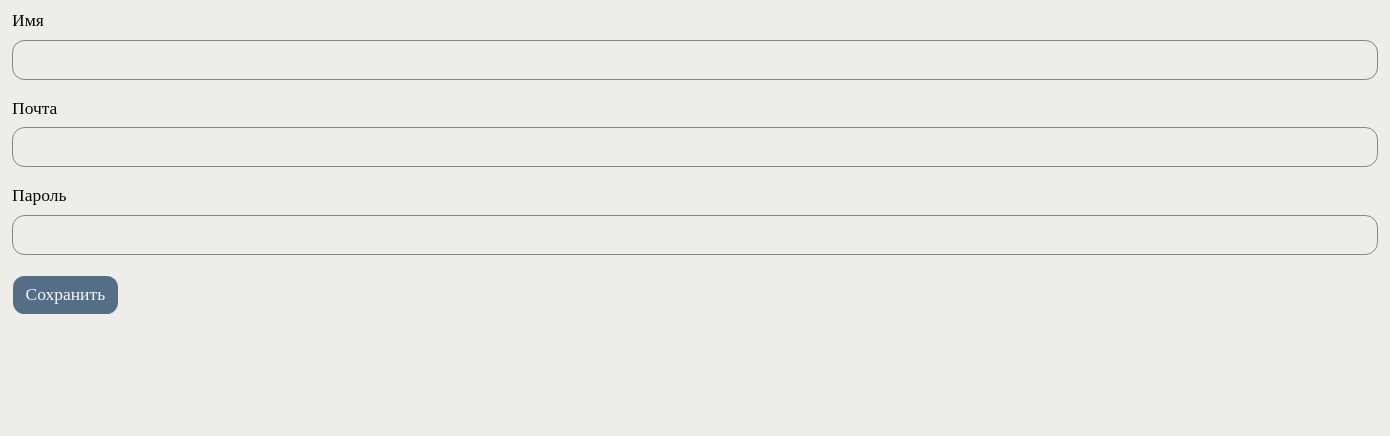
Test: useFormAction › clearOnError не трогает поле, если отказ относится к другому полю
The image size is (1390, 436).
Type "секрет" into the password field labelled "Пароль" at point(695, 234), box left=12, top=214, right=1378, bottom=254
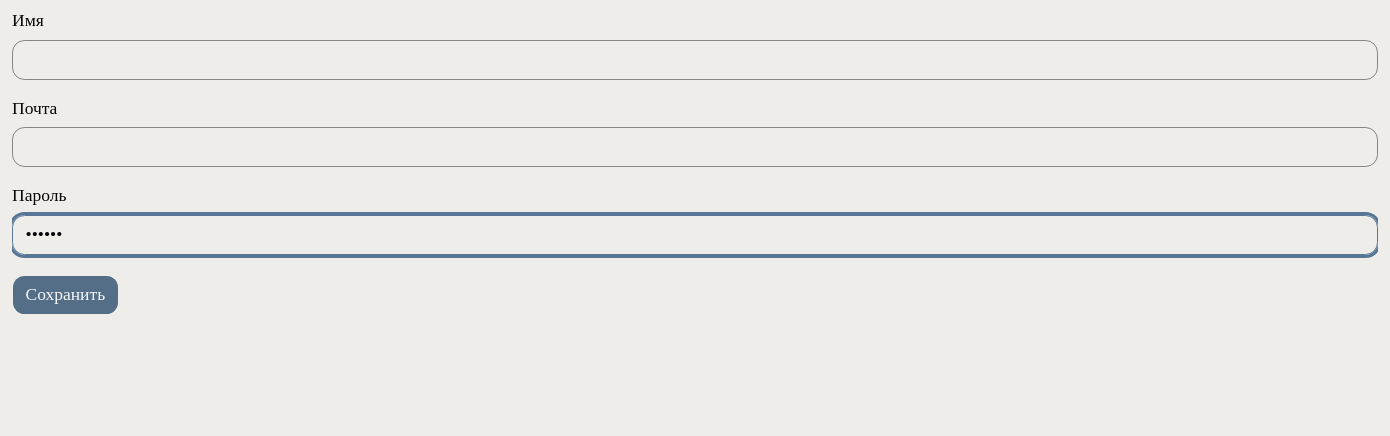
Click the button "Сохранить" at point(65, 294), box left=12, top=274, right=119, bottom=314
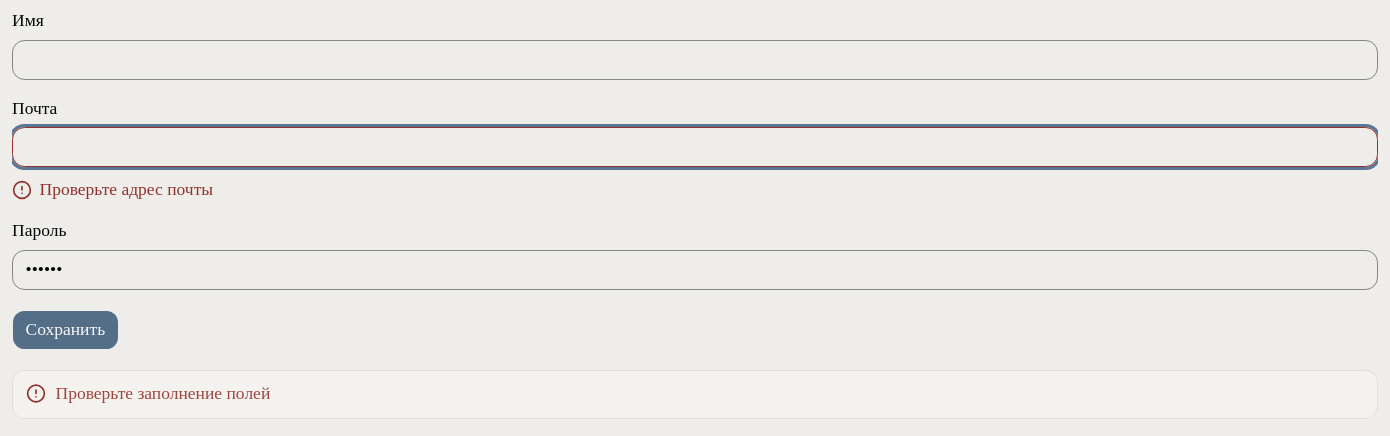
Expected: the text "Проверьте адрес почты" is shown, left=40, top=177, right=213, bottom=202
